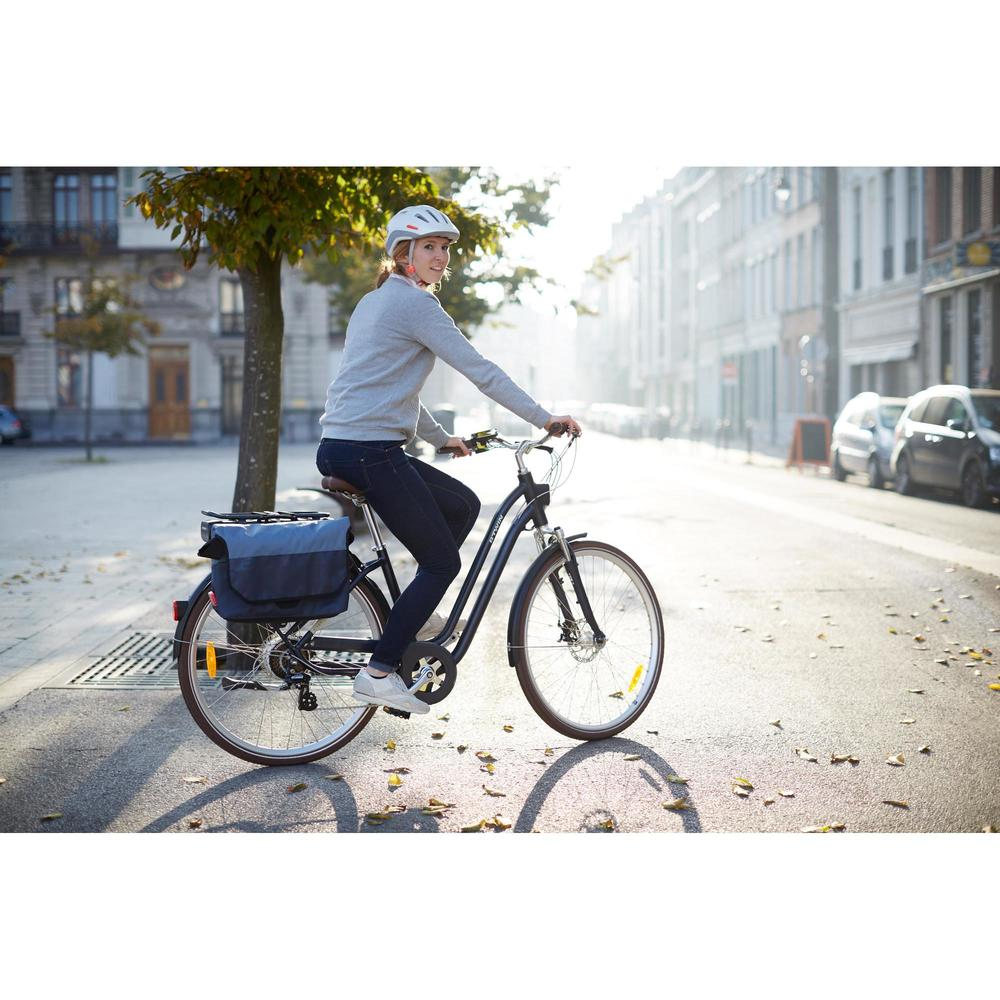UrbanBike: (148, 400, 672, 793)
